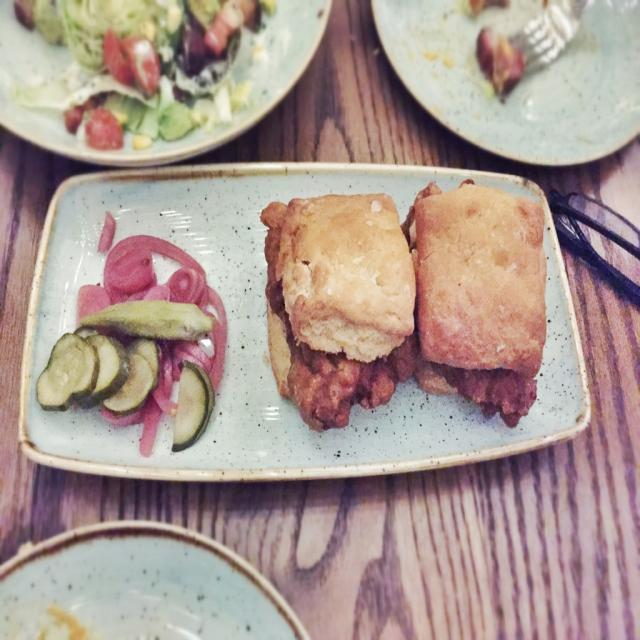Sandwich: (260, 192, 419, 430), (410, 177, 545, 431)
